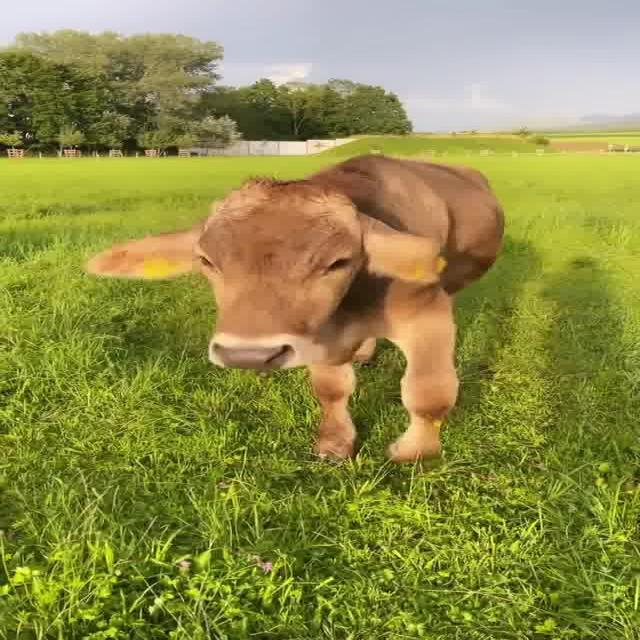cowFace: (79, 167, 472, 377)
